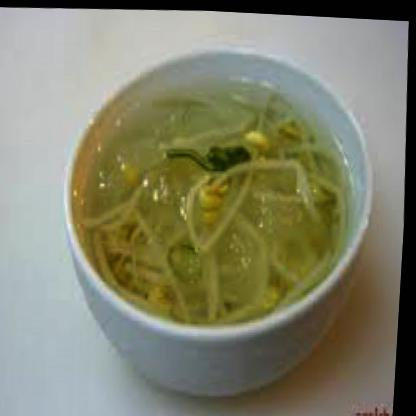bean sprout soup: (65, 53, 375, 343)
